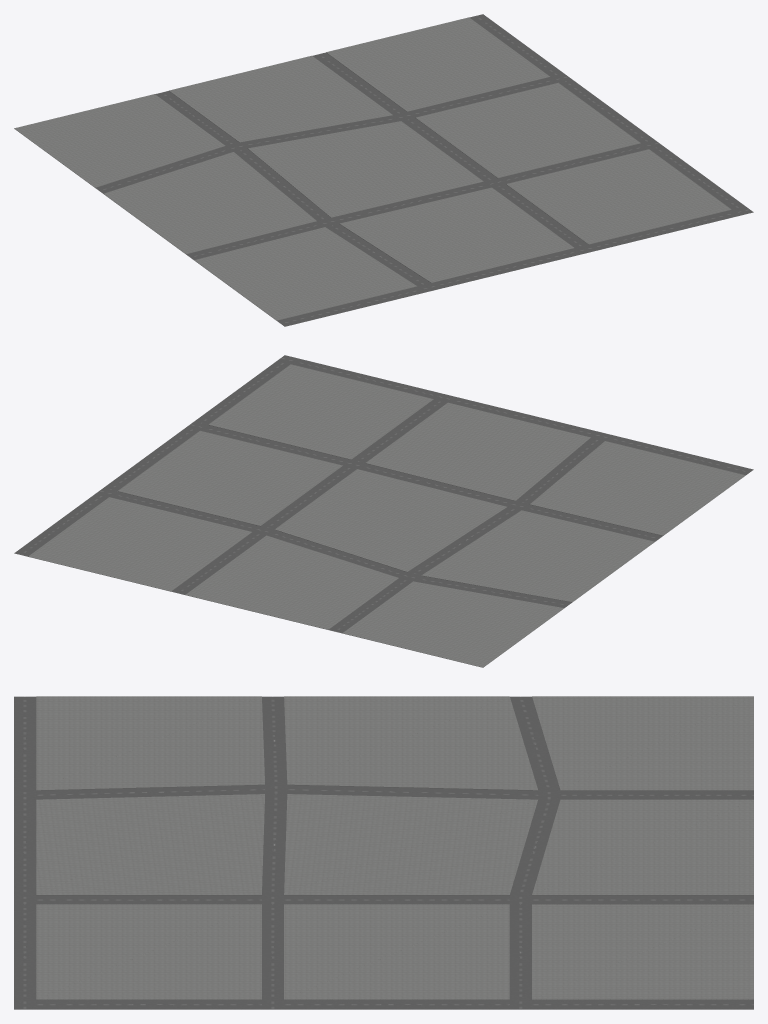
Rendered from ground1.FBX.
3 views of the same model, one above another, from view 1: azimuth 30°, elevation 25°; view 2: azimuth 150°, elevation 25°; view 3: azimuth 270°, elevation 25° (orthographic). The views are drawn at different scales.
Visible parts, largest first — view 1: ground1_LOD0; view 2: ground1_LOD0; view 3: ground1_LOD0.
Part boxes in pixels (box(x1,y1,x2,y2)): ground1_LOD0: box(14, 14, 753, 326); ground1_LOD0: box(14, 355, 753, 667); ground1_LOD0: box(14, 696, 753, 1009).
Size of what is drawn, in the model's own units: 200 by 0.1001 by 200.
